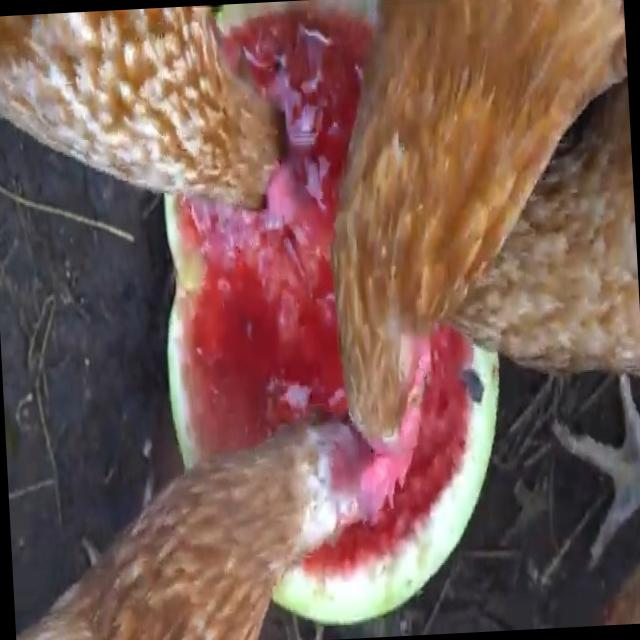feeding: (302, 0, 640, 473), (7, 447, 416, 640)
